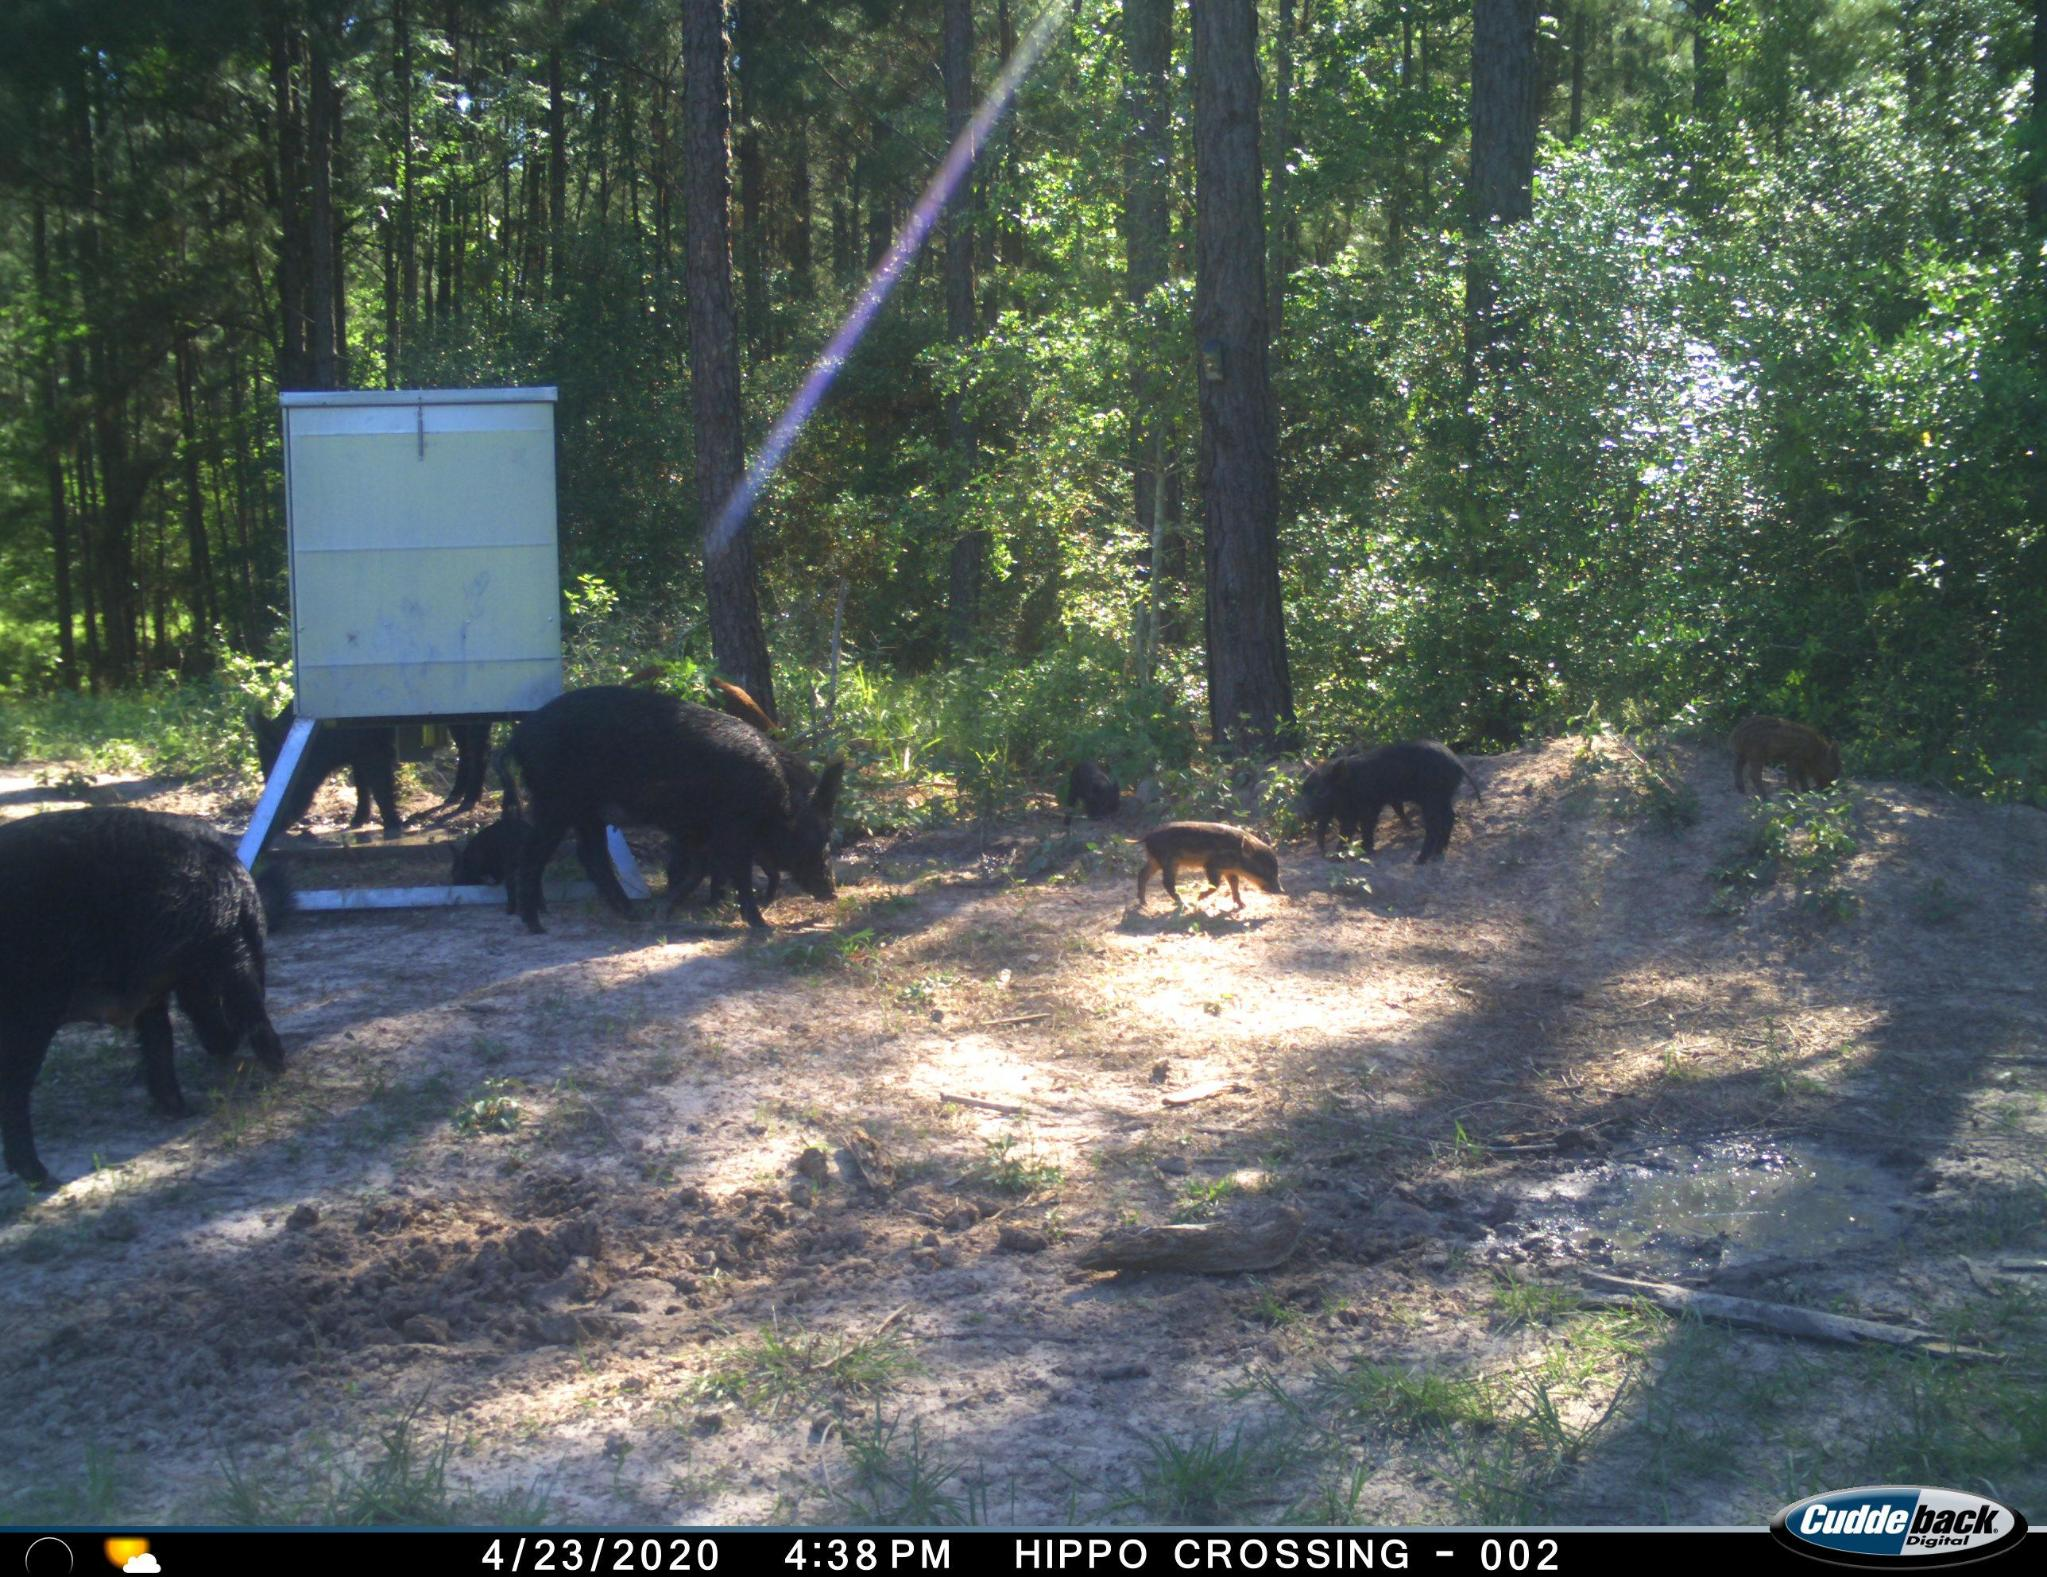Hog: (0, 792, 280, 1196), (494, 684, 856, 941), (240, 694, 495, 833), (1287, 744, 1476, 880), (1133, 818, 1284, 919), (1717, 704, 1847, 803)
